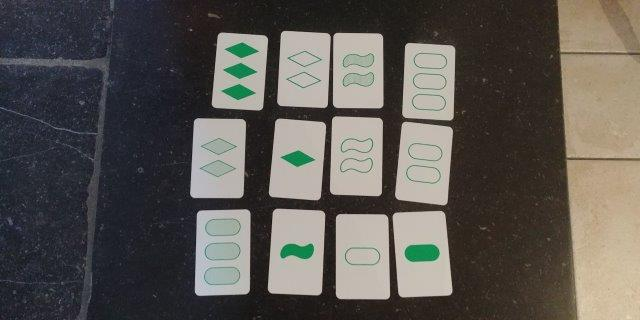1EP: (339, 216, 386, 296)
1FD: (278, 122, 319, 196)
1FP: (400, 215, 445, 294)
1FW: (275, 210, 320, 293)
2ED: (284, 33, 325, 104)
2EP: (404, 126, 446, 200)
2EW: (334, 120, 380, 193)
2HD: (196, 121, 242, 196)
2HW: (335, 35, 380, 106)
3EP: (407, 45, 451, 117)
3FD: (219, 35, 262, 106)
3HP: (199, 212, 248, 293)
